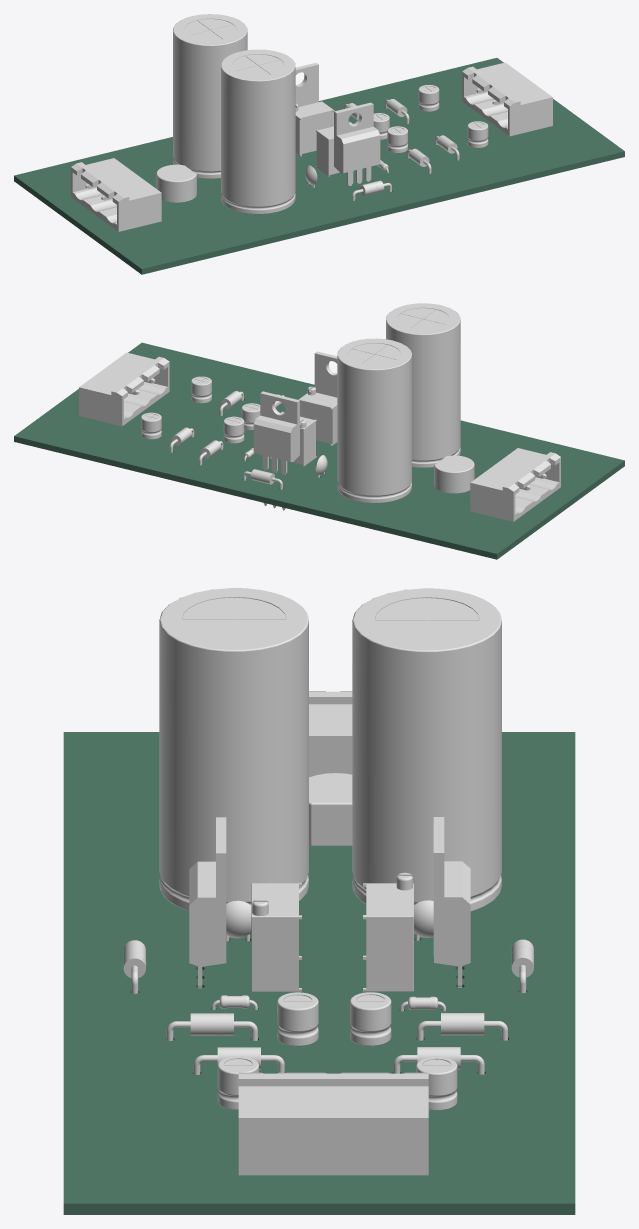
File: low_noise_power_supply.glb
3 renders of one model, top to bottom at view 1: azimuth 30°, elevation 25°; view 2: azimuth 150°, elevation 25°; view 3: azimuth 270°, elevation 25°, orthographic. The views are drawn at different scales.
Parts seen in each view (by area): view 1: =>[0:1:1:11], C2, C1, J1, J2, U2, RV1, D1, U1, RV2, C7, C8 (+2 smaller); view 2: =>[0:1:1:11], C1, C2, J1, J2, U1, RV2, D1, U2, RV1, C5, C7 (+3 smaller); view 3: =>[0:1:1:11], C2, C1, J1, RV1, RV2, U1, U2, J2, D1, C6, C5 (+9 smaller).
Boxes of the visible parts, x1,y1,x2,y2 form: =>[0:1:1:11]: (14, 58, 624, 274); C2: (221, 49, 295, 214); C1: (173, 14, 247, 178); J1: (462, 62, 552, 136); J2: (71, 158, 161, 231); U2: (334, 102, 380, 185); RV1: (295, 101, 334, 156); D1: (156, 164, 196, 202); U1: (295, 63, 318, 106); RV2: (316, 122, 352, 176); C7: (467, 121, 488, 148); C8: (418, 85, 439, 111); =>[0:1:1:11]: (14, 342, 624, 559); C1: (337, 338, 411, 503); C2: (386, 303, 460, 467); J1: (79, 352, 169, 426); J2: (470, 448, 560, 521); U1: (253, 391, 299, 510); RV2: (298, 386, 337, 446); D1: (434, 455, 474, 493); U2: (314, 351, 337, 397); RV1: (269, 411, 316, 466); C5: (223, 416, 244, 443); C7: (191, 376, 211, 403); =>[0:1:1:11]: (63, 732, 575, 1214); C2: (159, 588, 308, 910); C1: (352, 588, 501, 911); J1: (238, 1072, 428, 1175); RV1: (363, 872, 413, 991); RV2: (251, 883, 301, 991); U1: (433, 817, 470, 987); U2: (189, 817, 226, 988); J2: (309, 691, 352, 777); D1: (309, 773, 352, 845); C6: (277, 992, 318, 1046); C5: (350, 992, 391, 1046).
Bounding box in the file's own units: 0.1342 × 0.0453 × 0.0615.
